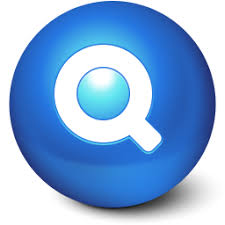searchIcon: (48, 41, 168, 155)
